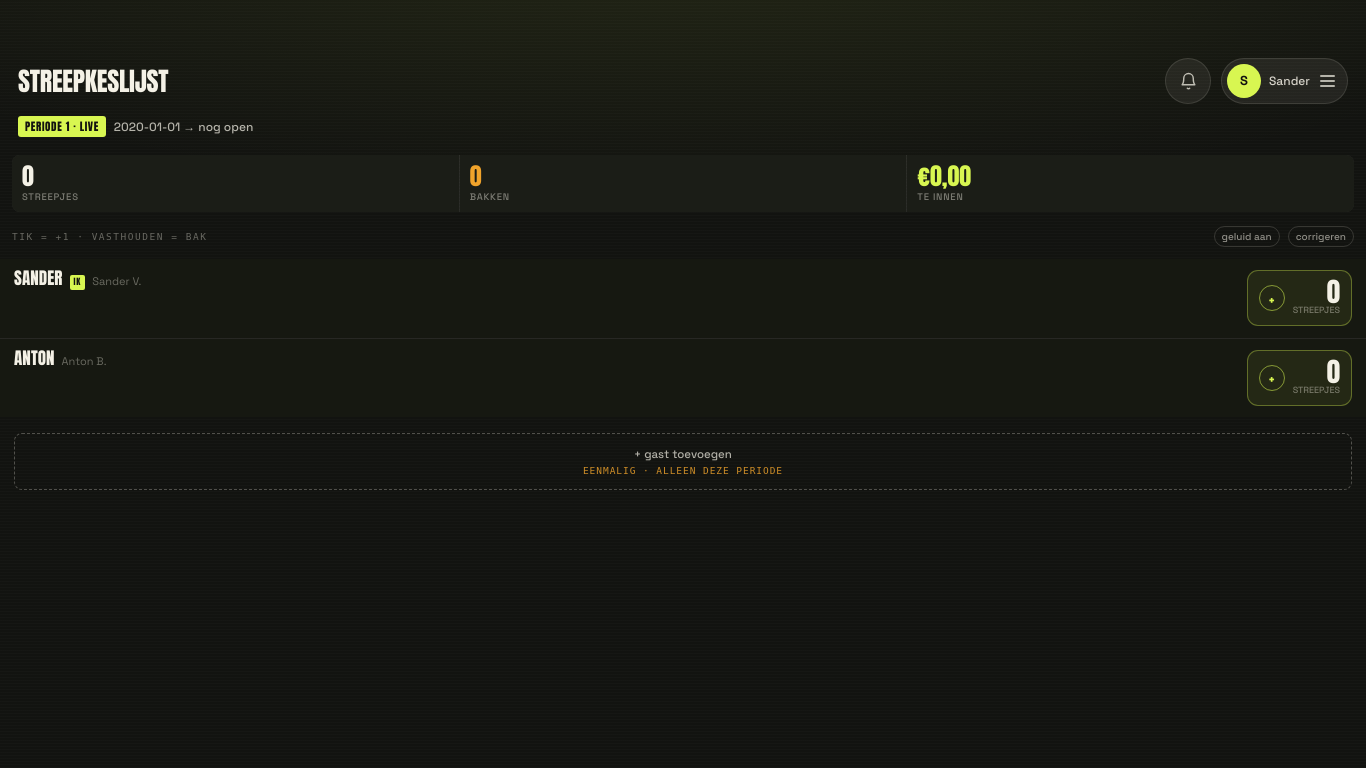
Test: AC1: Mijn profiel in het menu opent het echte scherm, geen stub
What coordinates should you click on to do the following:
click the text "Sander" in the row of "Streepkeslijst"
I would click on:
 (1290, 81)
Its box is x1=1269 y1=73 x2=1310 y2=89.
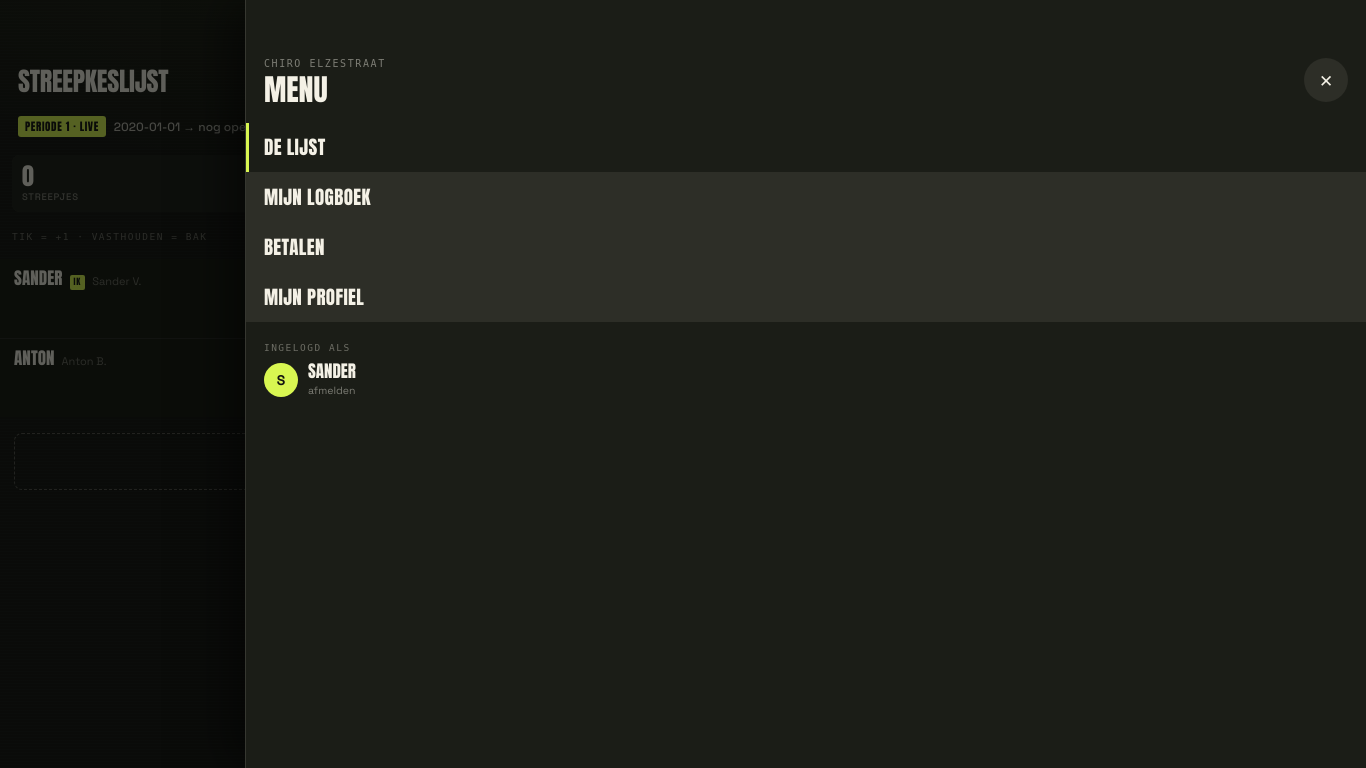
What coordinates should you click on to do the following:
click the text "Mijn profiel"
I would click on:
 (314, 296)
Its box is x1=264 y1=282 x2=364 y2=310.
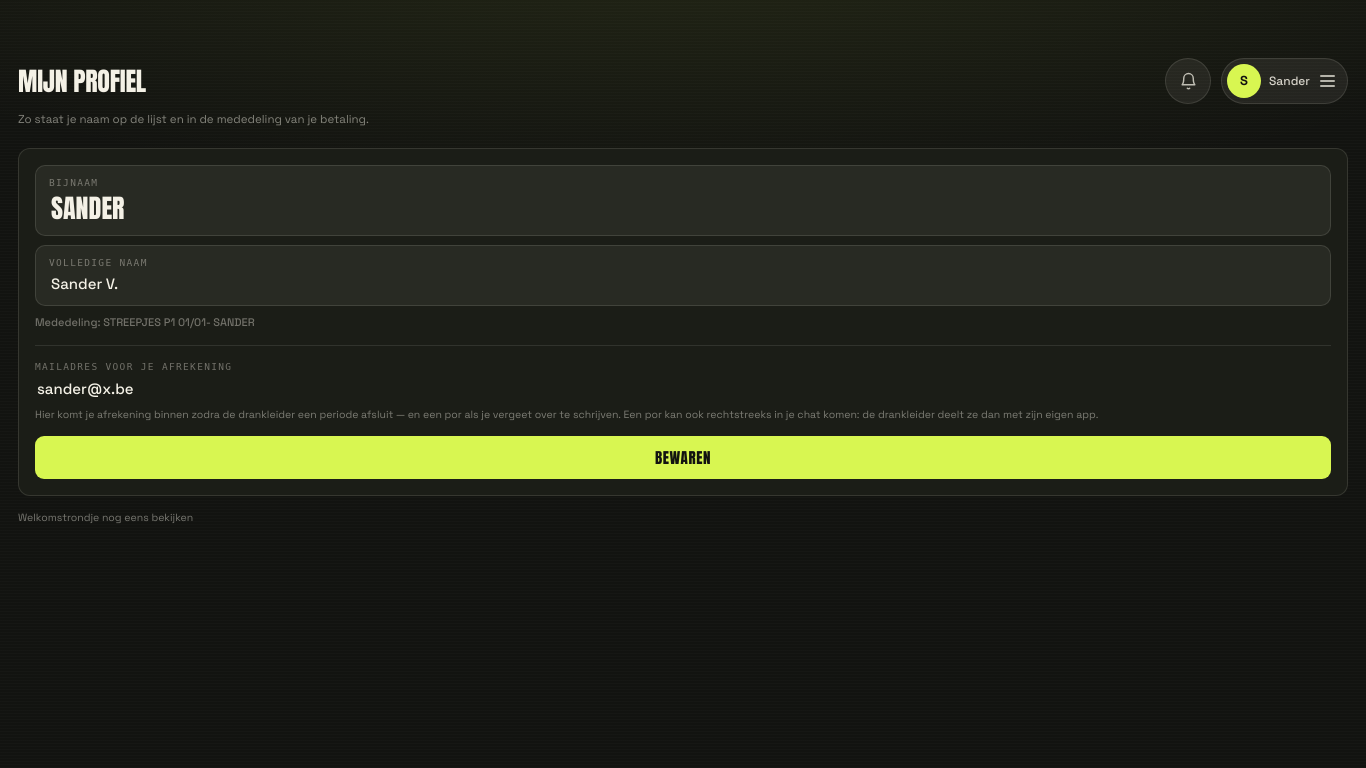
Now the text "Zo staat je naam op de lijst en in de mededeling van je betaling." is shown, box x1=18 y1=112 x2=369 y2=126
